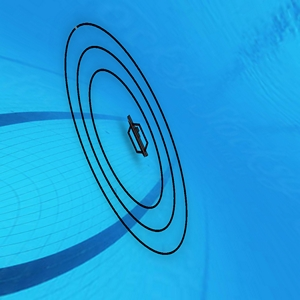submarine: (125, 116, 152, 159)
